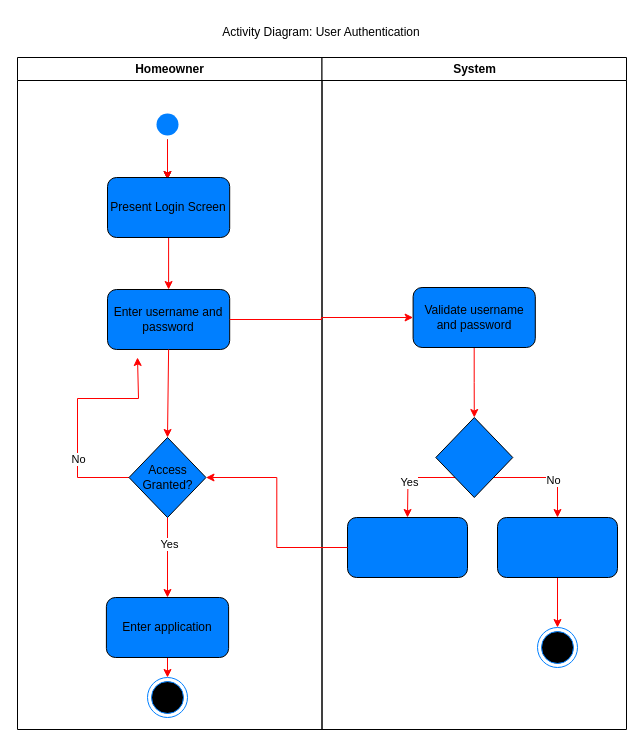
This 644x747 diagram has some shape labels left out. The shapes that lost their labels are listed below. From the top down, each one's centre as x and y in pixels, then its label:
pixel 474 457: Are Credentials Valid
pixel 407 547: Grant Access
pixel 557 547: Display Error Message
